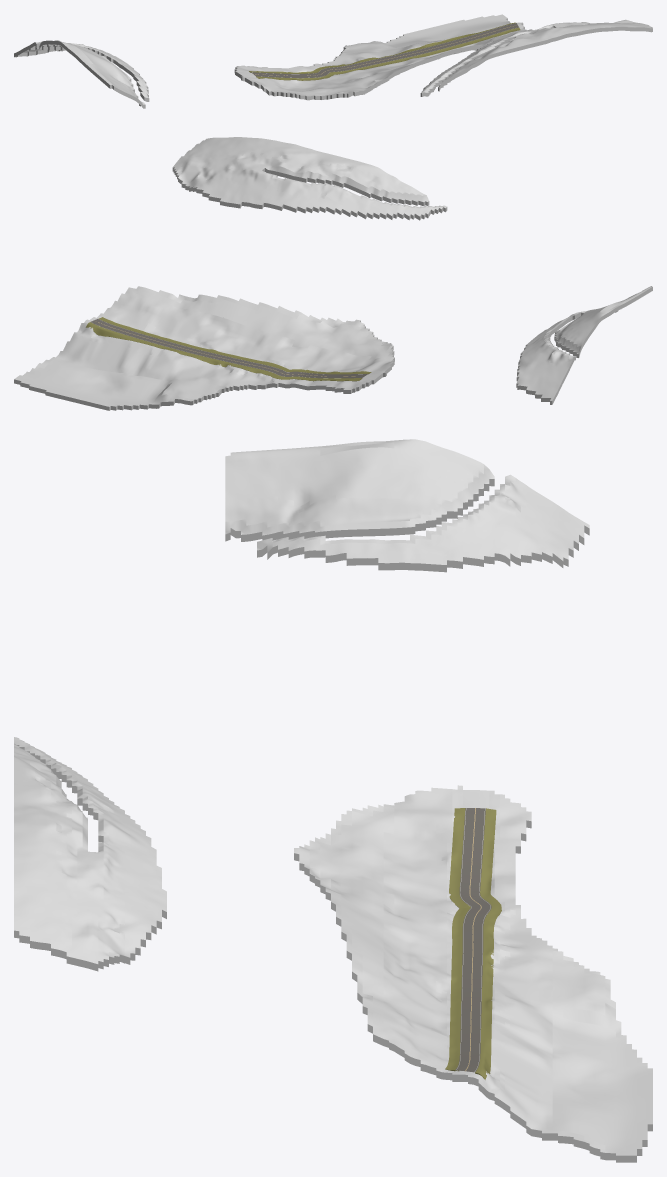
The model's file is conz_124.glb.
3 views of the same model, one above another, from view 1: azimuth 30°, elevation 25°; view 2: azimuth 150°, elevation 25°; view 3: azimuth 270°, elevation 25° (orthographic). The views are drawn at different scales.
Visible parts, largest first — view 1: terrain124, road124, verge124R, verge124L; view 2: terrain124, road124, verge124L, verge124R; view 3: terrain124, road124, verge124L, verge124R.
Boxes of the visible parts, x1,y1,x2,y2 form: terrain124: (14,14,652,108); road124: (251,23,518,78); verge124R: (256,27,520,80); verge124L: (249,22,515,73); terrain124: (14,137,652,410); road124: (91,319,367,378); verge124L: (86,322,362,381); verge124R: (99,317,371,374); terrain124: (14,439,652,1162); road124: (455,808,491,1072); verge124L: (475,808,501,1079); verge124R: (445,808,470,1071).
Bounding box in the file's own units: 410 × 111 × 242.
